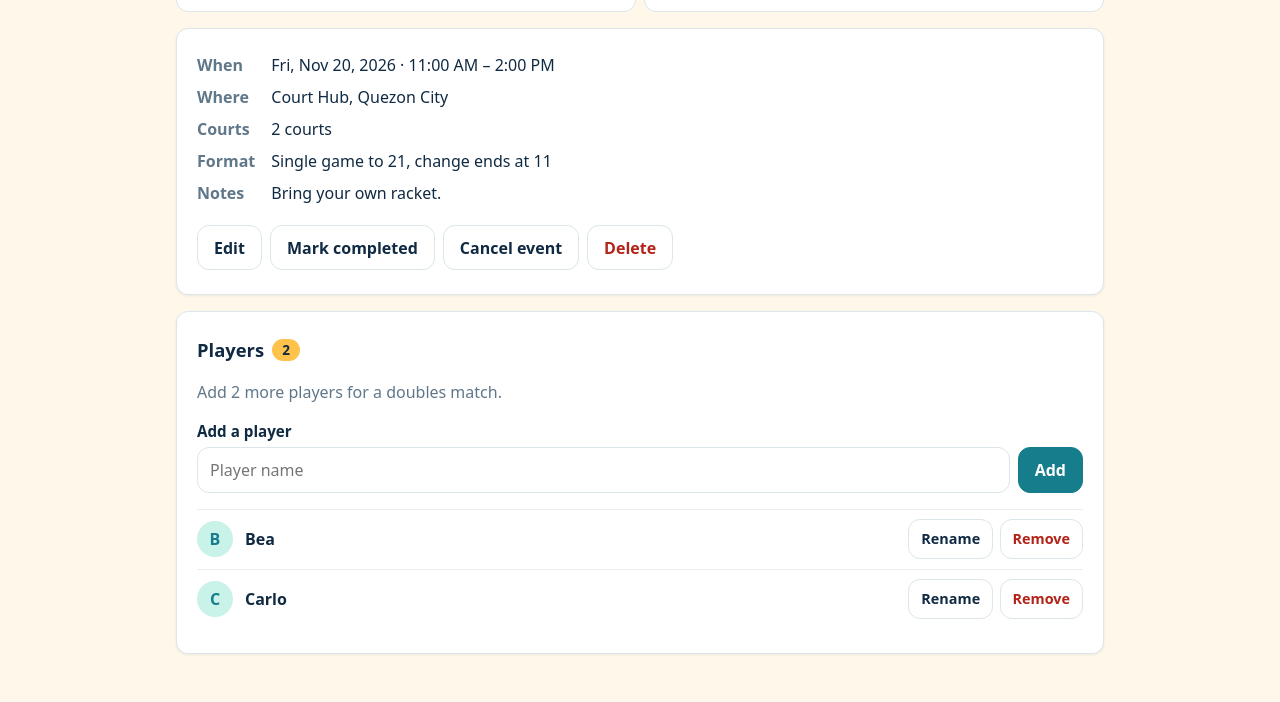
Players on the event page › keeps the player and explains why when they cannot be removed
(page scrolled)
Click the button with aria-label "Remove Carlo": (1041,599) [1000,579,1083,619]
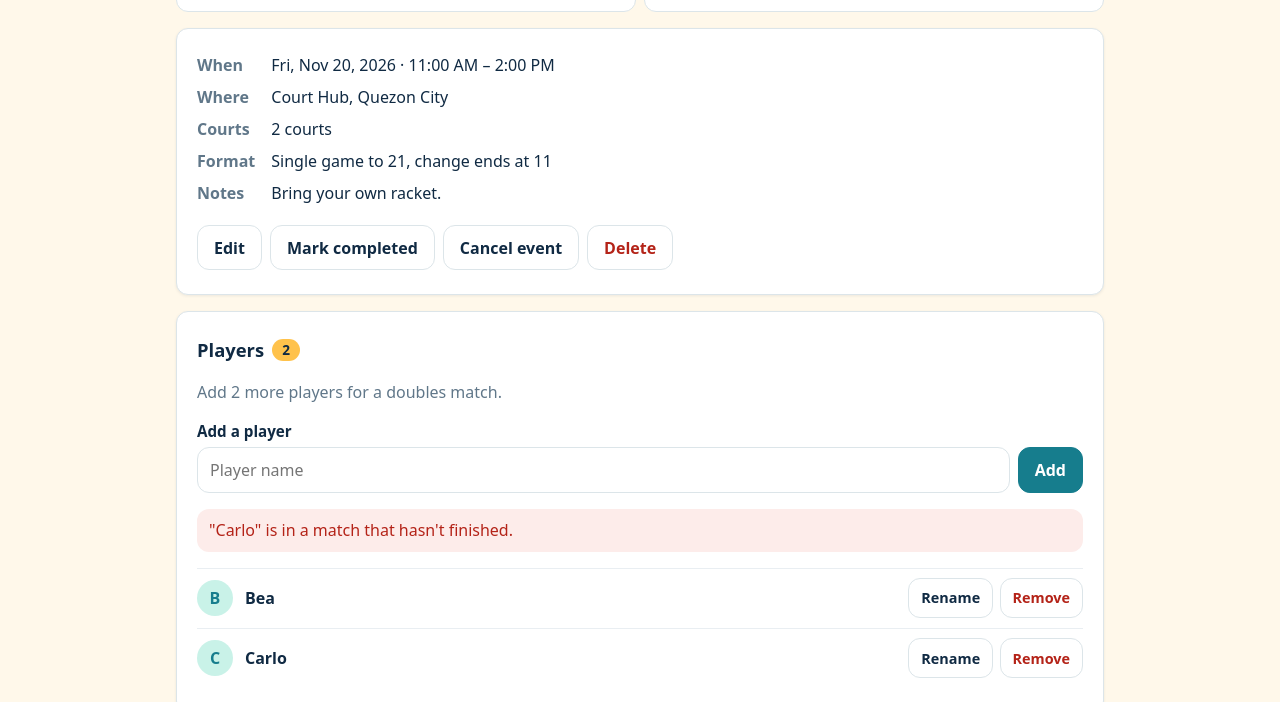
Expected: the message reads "\"Carlo\" is in a match that hasn't finished.", [209,519,513,541]
